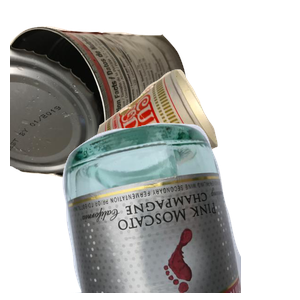glass: (60, 120, 300, 300)
metal: (10, 23, 193, 194)
plastic: (92, 176, 257, 300)
trash: (95, 67, 300, 238)
